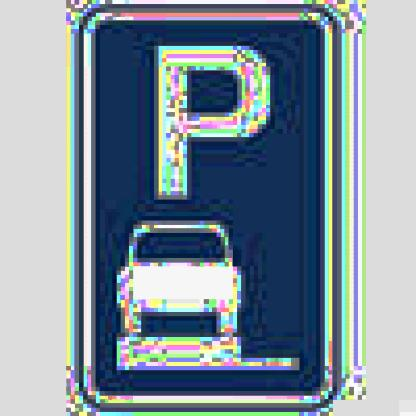Parking: (87, 12, 334, 220)
